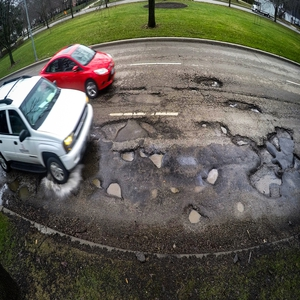pothole: (249, 128, 296, 193), (225, 97, 261, 115), (141, 145, 165, 169), (100, 120, 127, 141), (136, 118, 161, 140), (182, 201, 204, 225), (193, 74, 225, 89), (106, 178, 123, 198), (204, 169, 222, 186), (117, 150, 137, 162), (235, 201, 250, 215)
